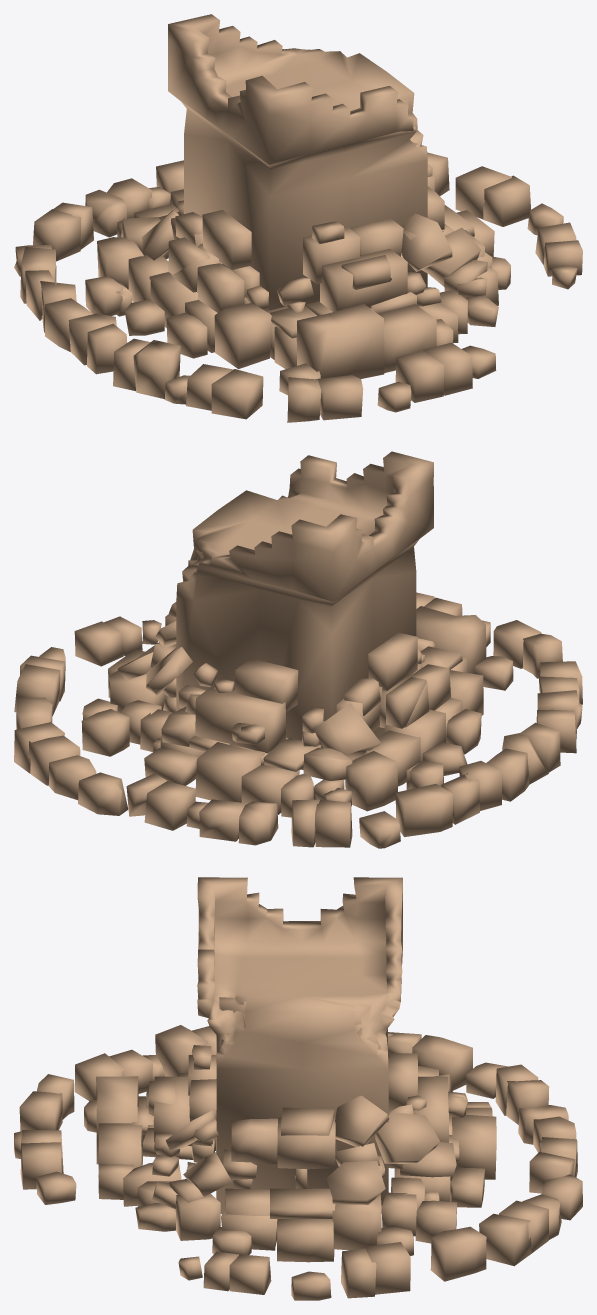
The picture shows the model from 3 angles, top to bottom: view 1: azimuth 30°, elevation 25°; view 2: azimuth 150°, elevation 25°; view 3: azimuth 270°, elevation 25°; orthographic projection. The views are drawn at different scales.
Parts seen in each view (by area): view 1: castle_d4.6; view 2: castle_d4.6; view 3: castle_d4.6.
Boxes of the visible parts, x1,y1,x2,y2 form: castle_d4.6: (14,14,582,422); castle_d4.6: (14,451,582,848); castle_d4.6: (14,877,582,1300).
Size of the model in its own units: 2.9 by 1.44 by 2.89.
